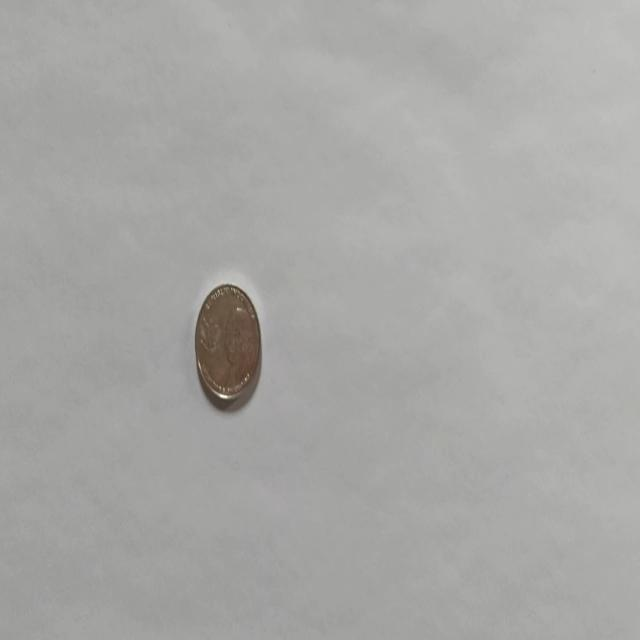lima ratus rupiah: (194, 281, 262, 408)
